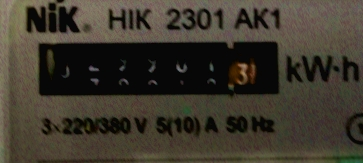0: (54, 51, 72, 79), (173, 45, 189, 74)
1: (204, 44, 217, 72)
2: (84, 45, 102, 72)
3: (233, 59, 250, 85)
9: (114, 45, 130, 72), (145, 46, 158, 73)
screen: (29, 31, 289, 104)
